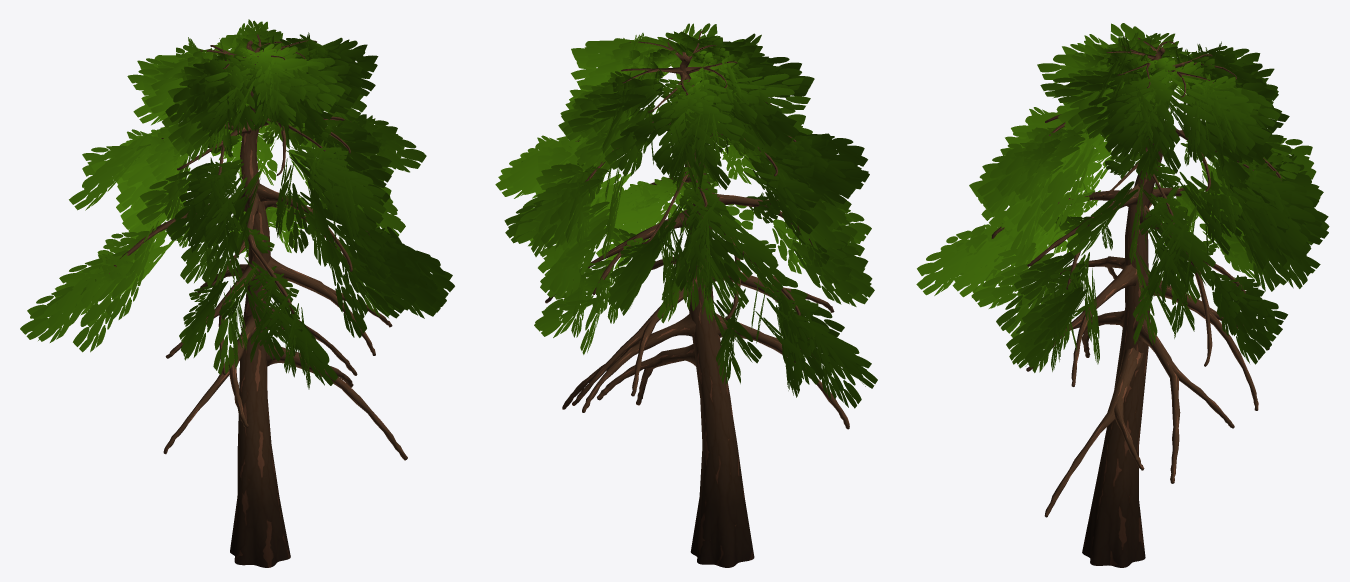
The model's file is GiantPine_4.gltf.
3 views of the same model, side by side, from view 1: azimuth 30°, elevation 25°; view 2: azimuth 150°, elevation 25°; view 3: azimuth 270°, elevation 25° (orthographic). The views are drawn at different scales.
Visible parts, largest first — view 1: GiantPine_4; view 2: GiantPine_4; view 3: GiantPine_4.
Part boxes in pixels (box(x1,y1,x2,y2)): GiantPine_4: box(20, 19, 454, 567); GiantPine_4: box(495, 23, 877, 567); GiantPine_4: box(916, 23, 1329, 567).
Size of the model in its own units: 13.46 by 16.68 by 12.31.
2 materials, 2 textured.
